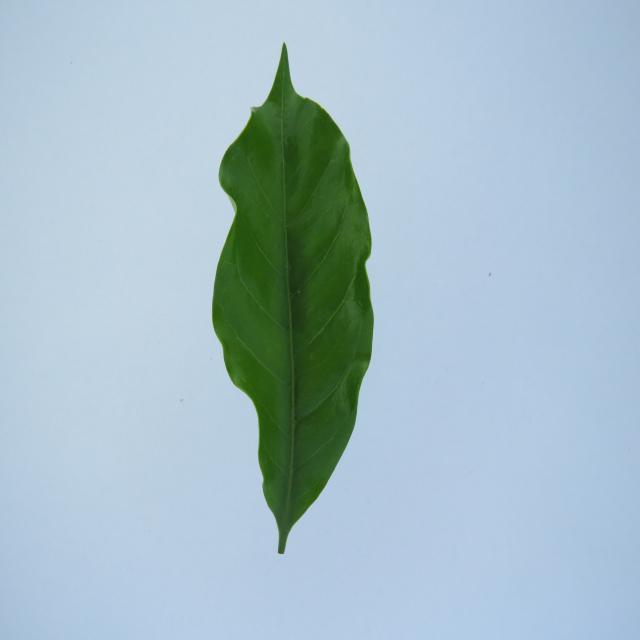DeficienciaNutricional-Calcio: (212, 45, 374, 553)
